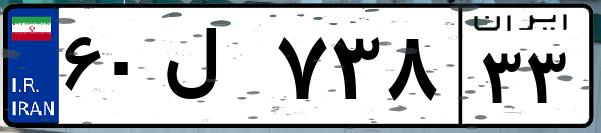0: (110, 28, 158, 98)
3: (330, 28, 385, 110), (475, 38, 525, 113), (525, 38, 570, 115)
6: (57, 26, 110, 100)
7: (270, 28, 330, 110)
8: (385, 28, 445, 110)
ل: (158, 20, 270, 120)
